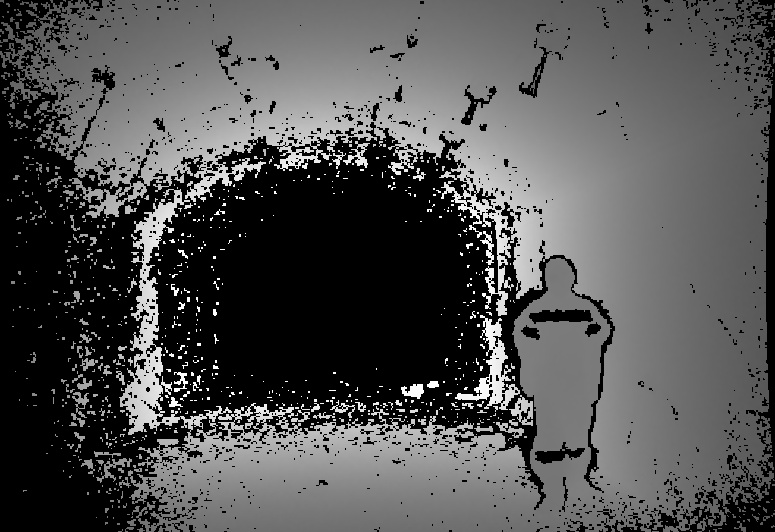person: (513, 256, 612, 508)
